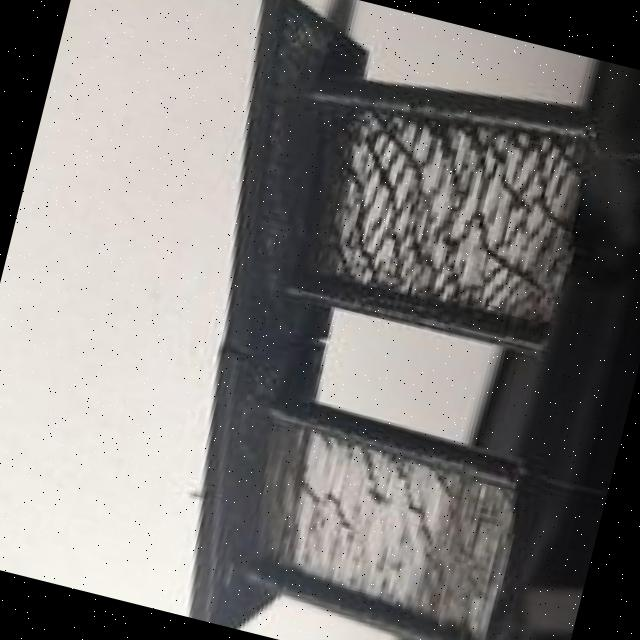stringing: (293, 70, 602, 342), (230, 413, 524, 640)
